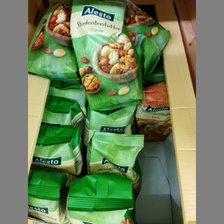nuts: (68, 2, 144, 113), (133, 80, 171, 145)
